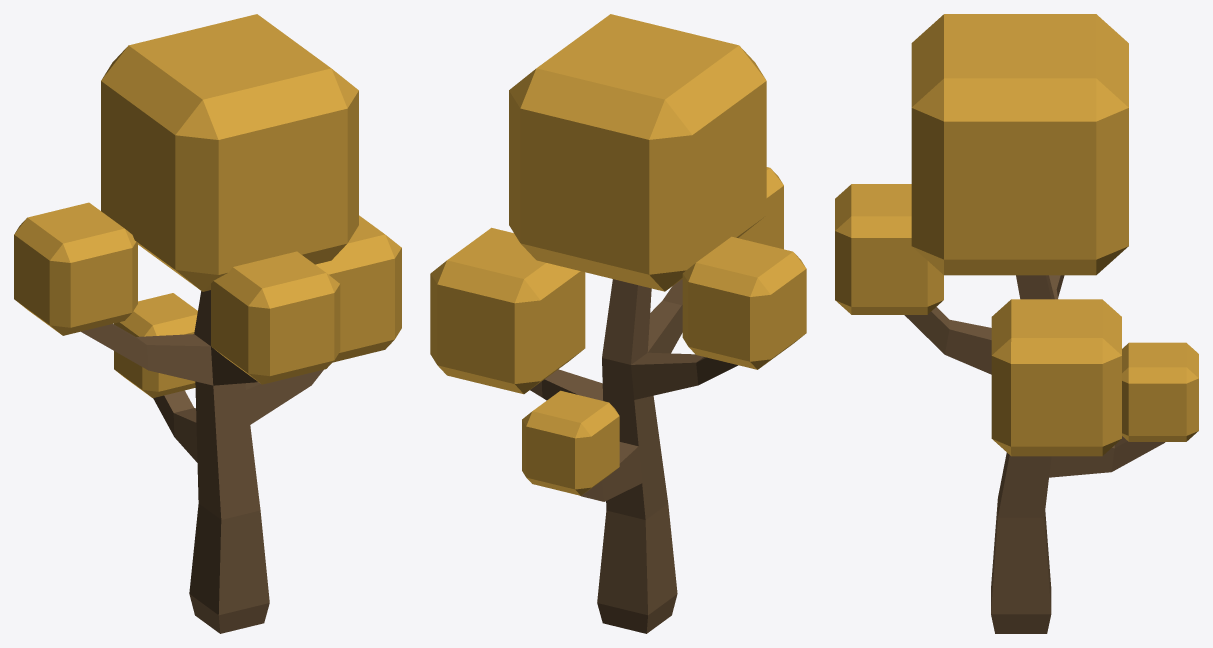
File: arbre-dore-2.glb
3 renders of one model, left to right at view 1: azimuth 30°, elevation 25°; view 2: azimuth 150°, elevation 25°; view 3: azimuth 270°, elevation 25°, orthographic. The views are drawn at different scales.
Parts seen in each view (by area): view 1: tree_detailed_fall; view 2: tree_detailed_fall; view 3: tree_detailed_fall.
Part boxes in pixels (box(x1,y1,x2,y2)): tree_detailed_fall: box(14, 14, 401, 633); tree_detailed_fall: box(430, 14, 806, 633); tree_detailed_fall: box(835, 14, 1198, 633).
Bounding box in the file's own units: 6.99 × 11 × 6.29.
